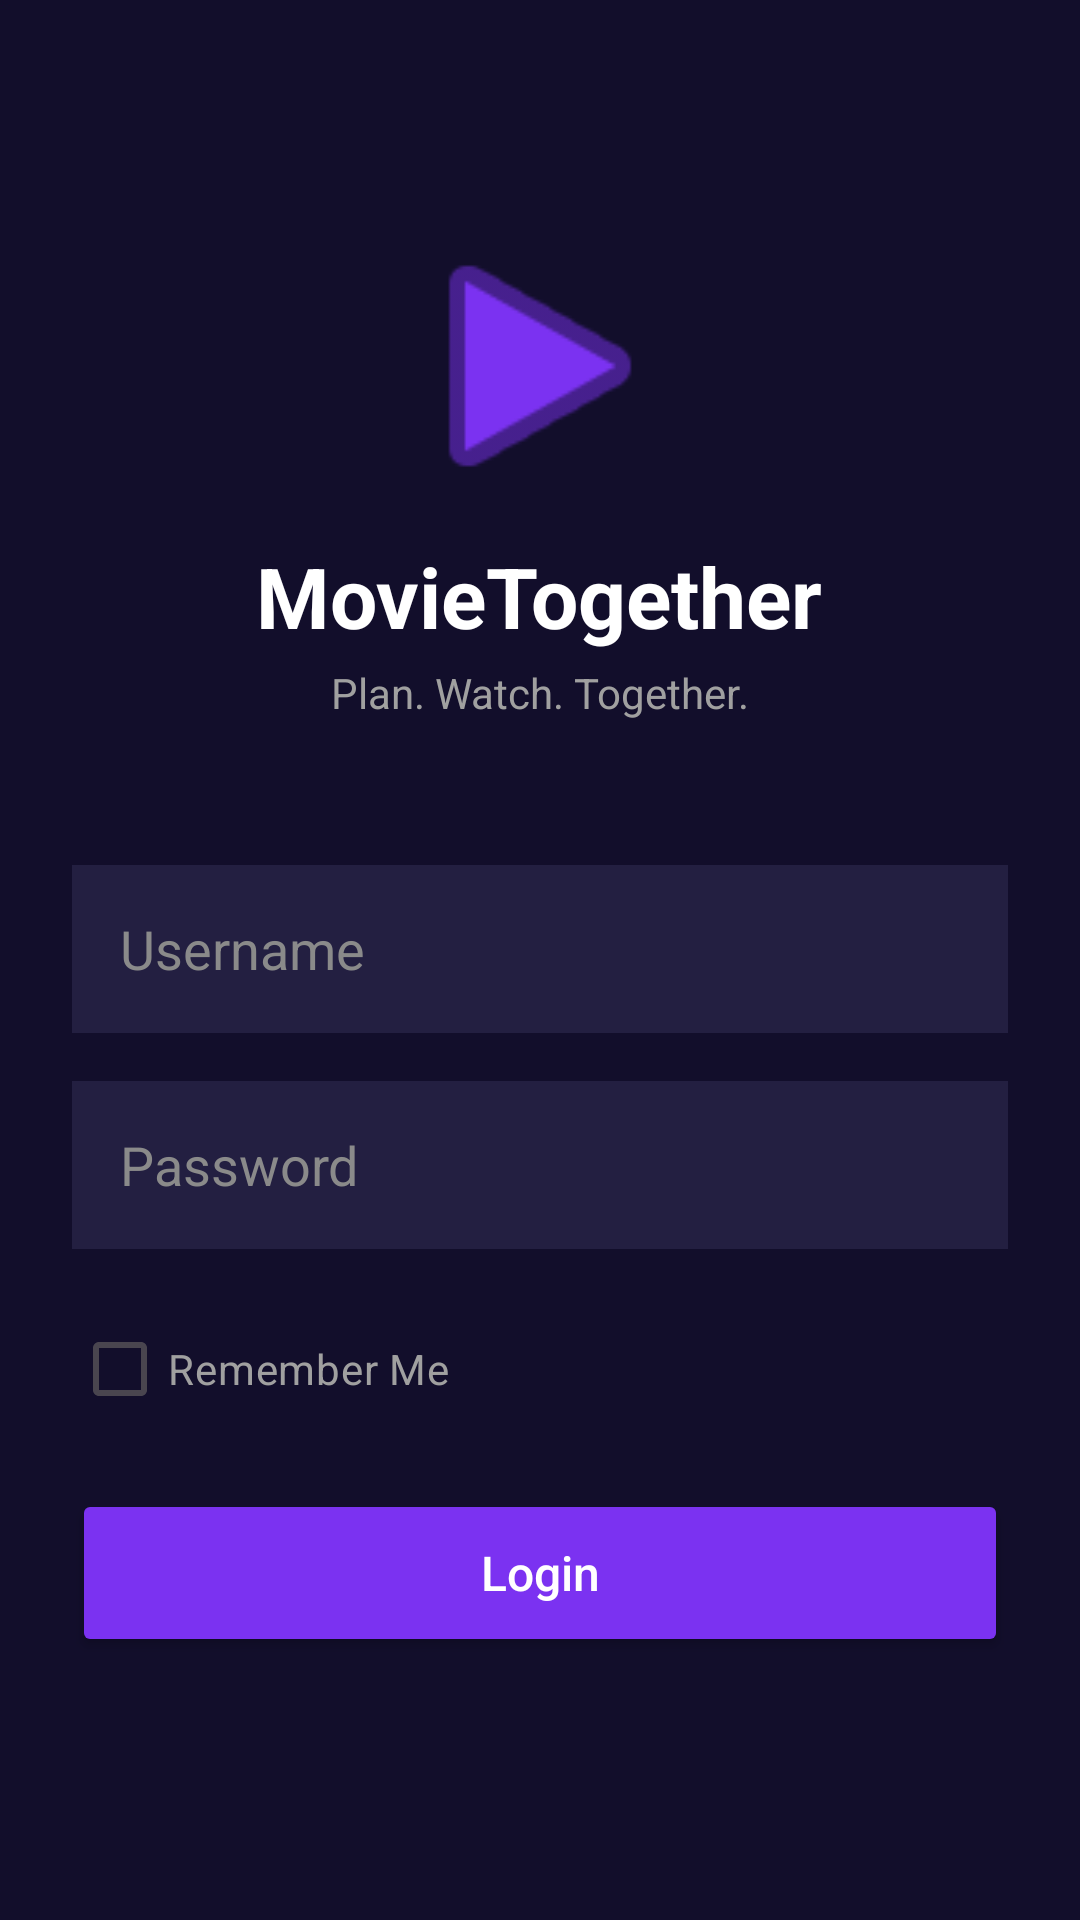

Named icons in this screenshot (1080×1920) and their centers, point (x, y):
play: point (540, 366)
